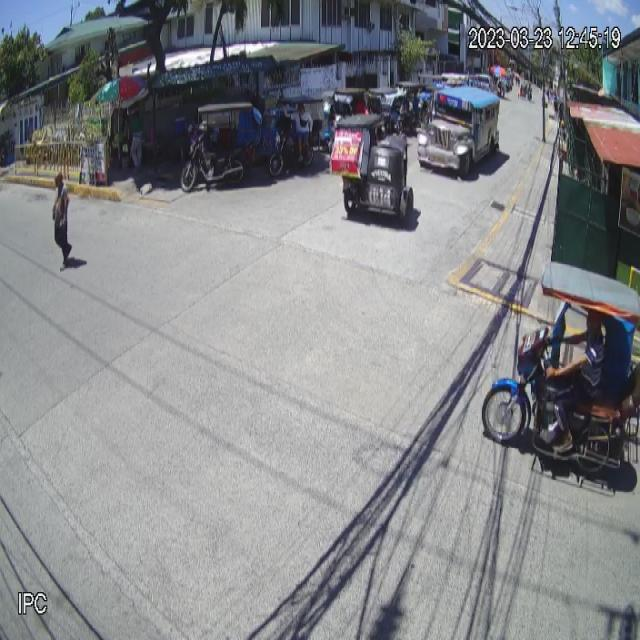Tricycle: (479, 256, 640, 479), (329, 113, 417, 231)
